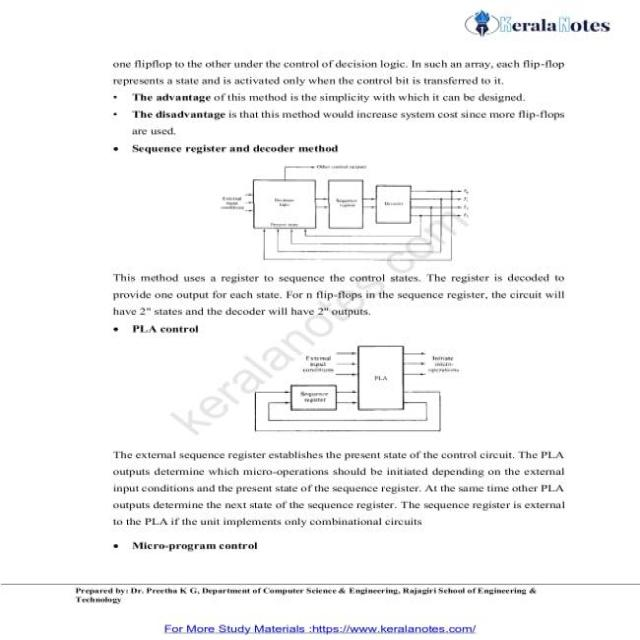Figure Detection - v3 Dataset Version2: (215, 158, 506, 268), (248, 336, 471, 437)
